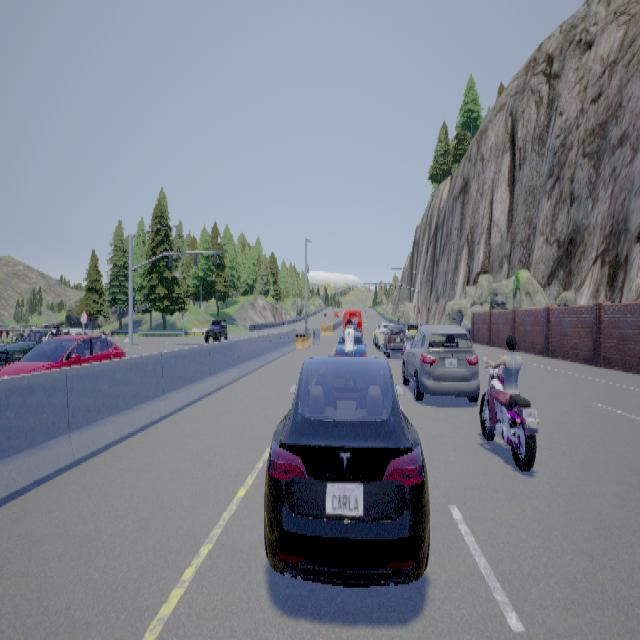bike: (341, 313, 355, 357)
motobike: (479, 338, 541, 472)
vehicle: (264, 308, 430, 586), (0, 325, 125, 376), (400, 327, 481, 402), (203, 317, 227, 342)
